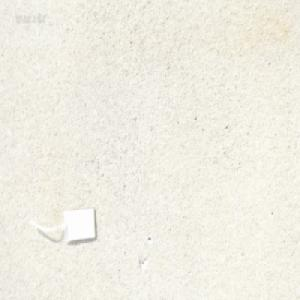LuggageTag: (28, 203, 97, 245)
